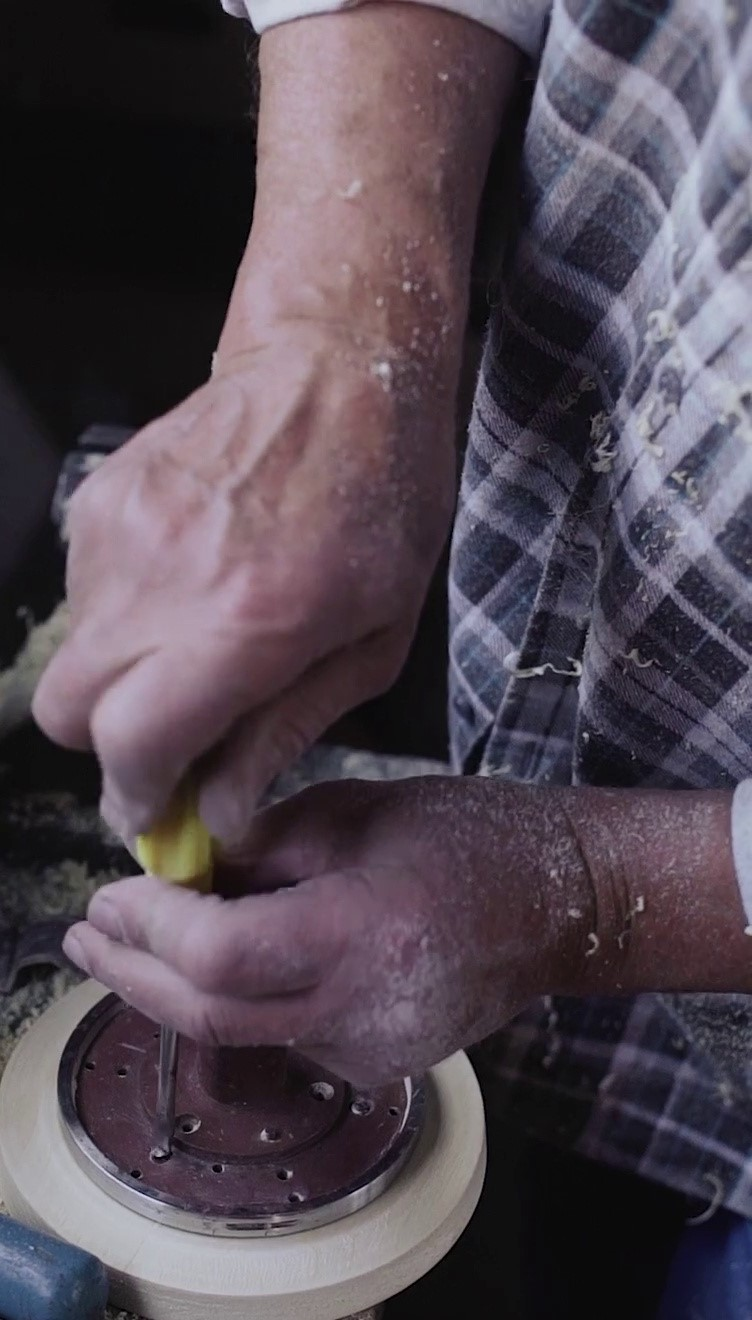screwdriver: (129, 711, 222, 1151)
